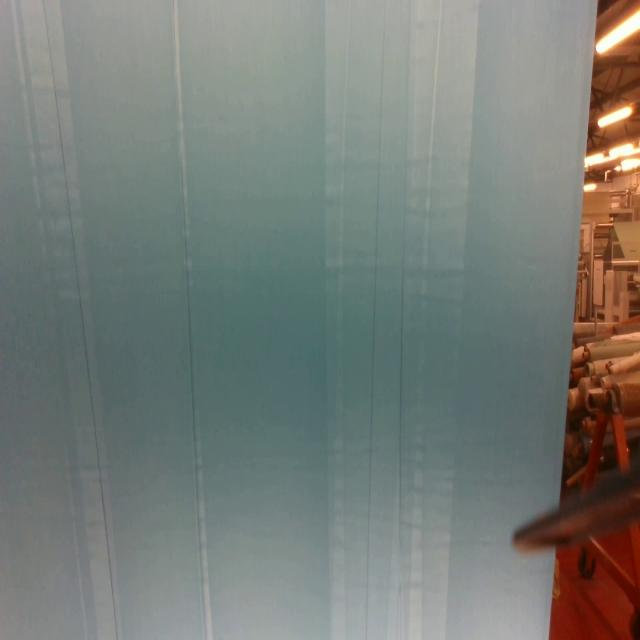crease: (40, 1, 119, 640), (172, 0, 211, 637), (363, 0, 388, 640), (396, 1, 414, 640)
